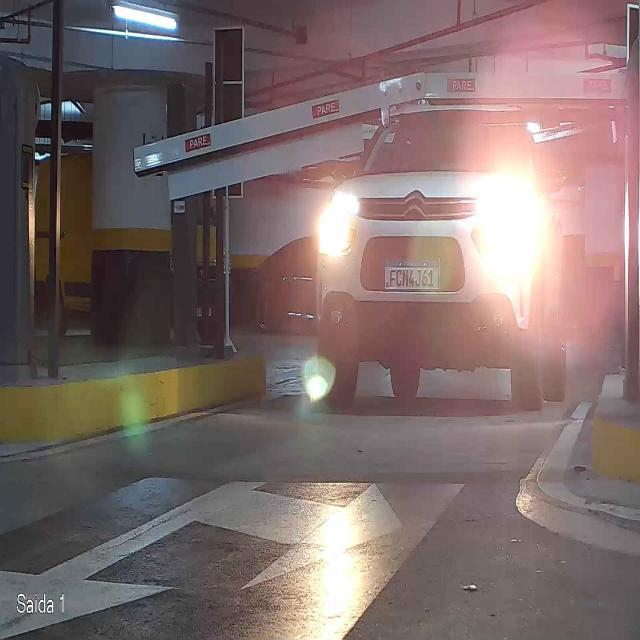mercosul_plate: (382, 255, 444, 292)
